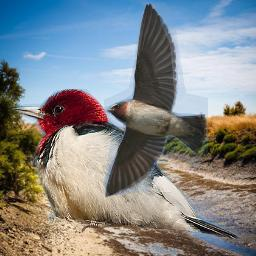Swallow: (104, 2, 208, 198)
Woodpecker: (8, 89, 242, 239)
